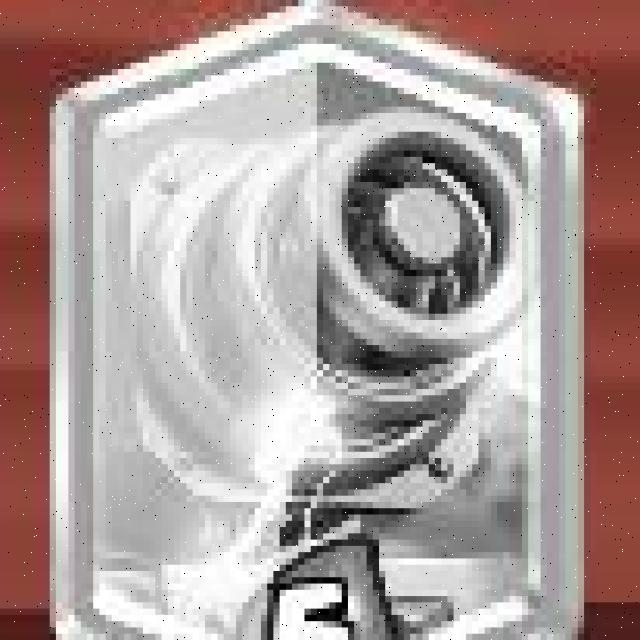Sparky: (63, 5, 584, 640)
